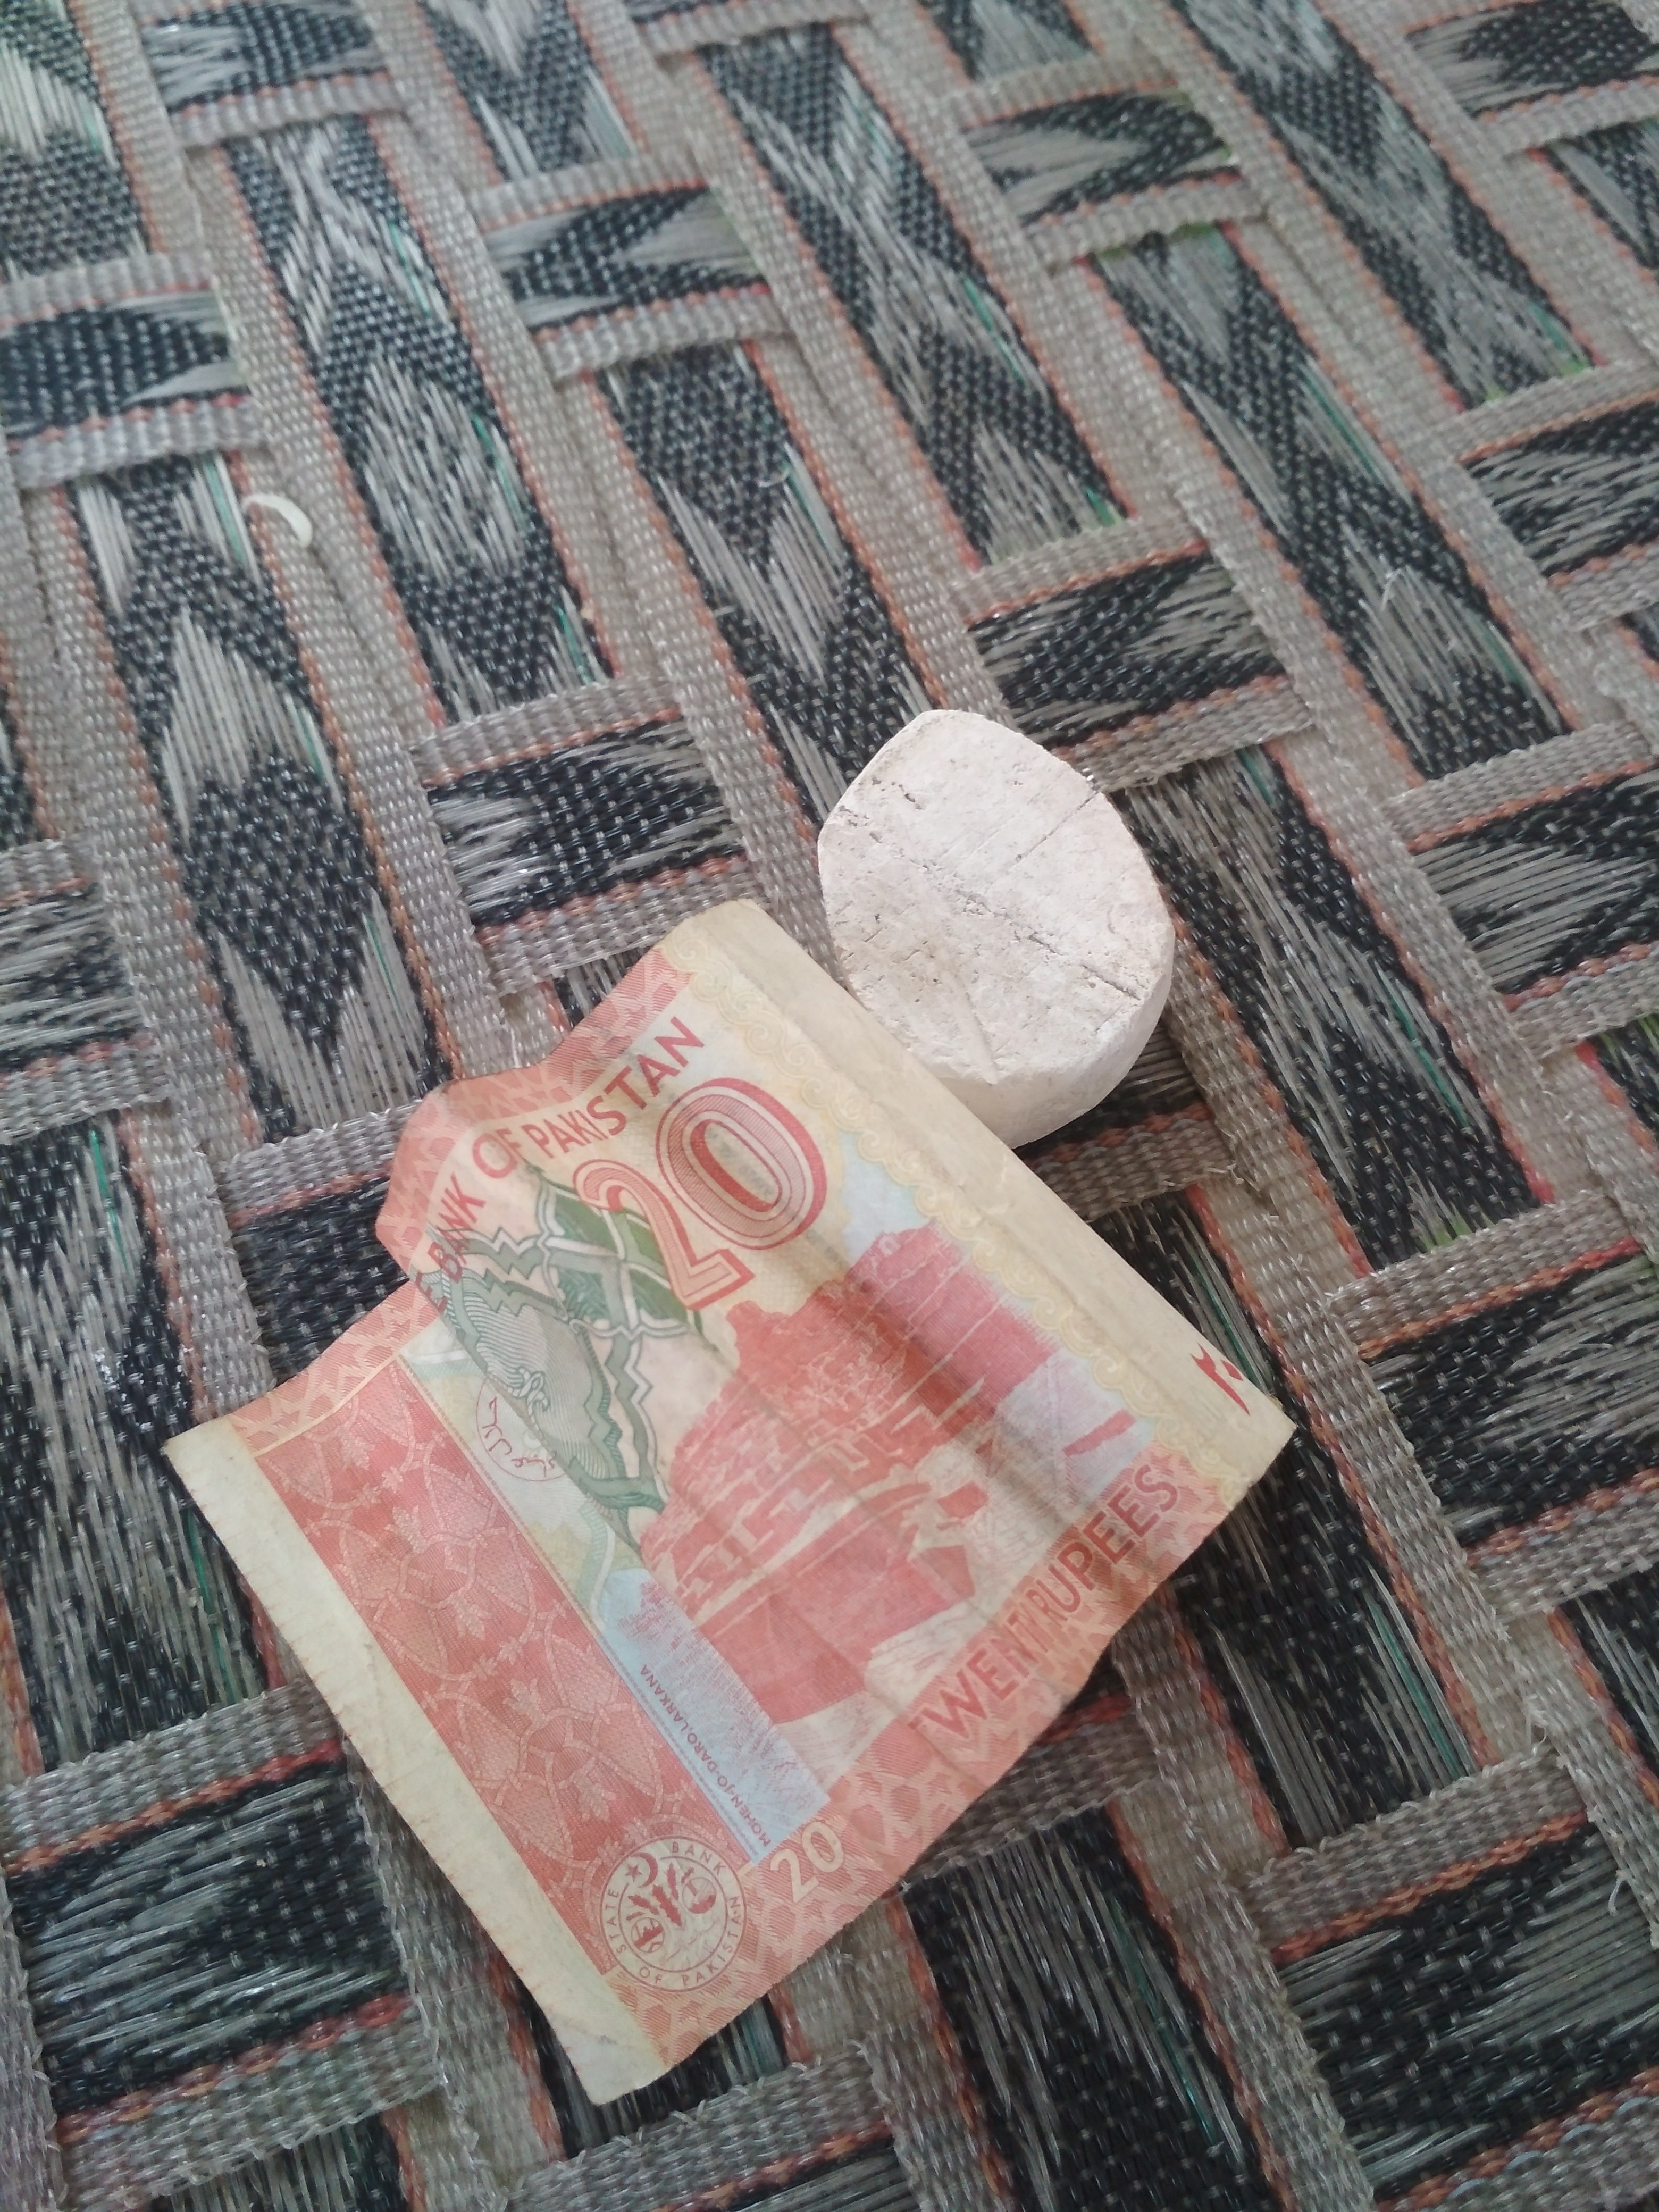20 rupee: (138, 880, 1310, 2104)
